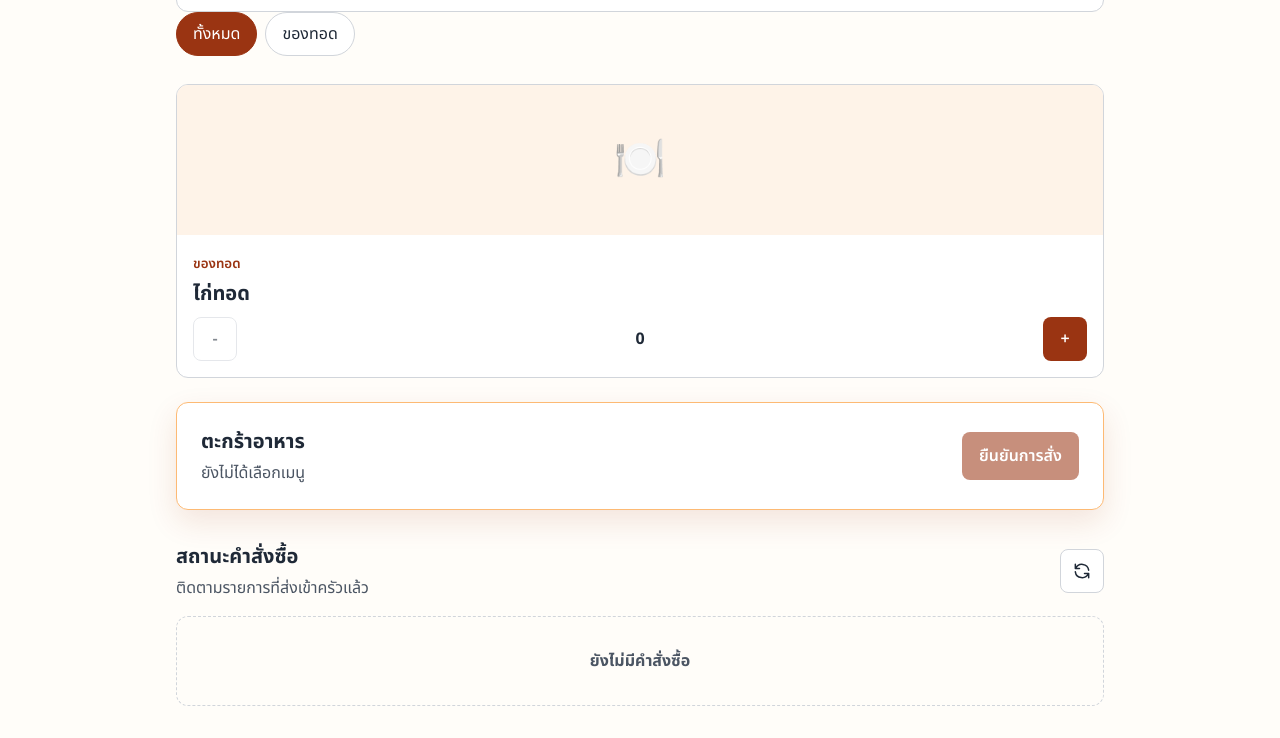
Test case: preserves an order submission error when an unrelated refresh completes later
(page scrolled)
Click the button named "อัปเดตสถานะคำสั่งซื้อ".
click(1082, 571)  # box x1=1060 y1=549 x2=1104 y2=593
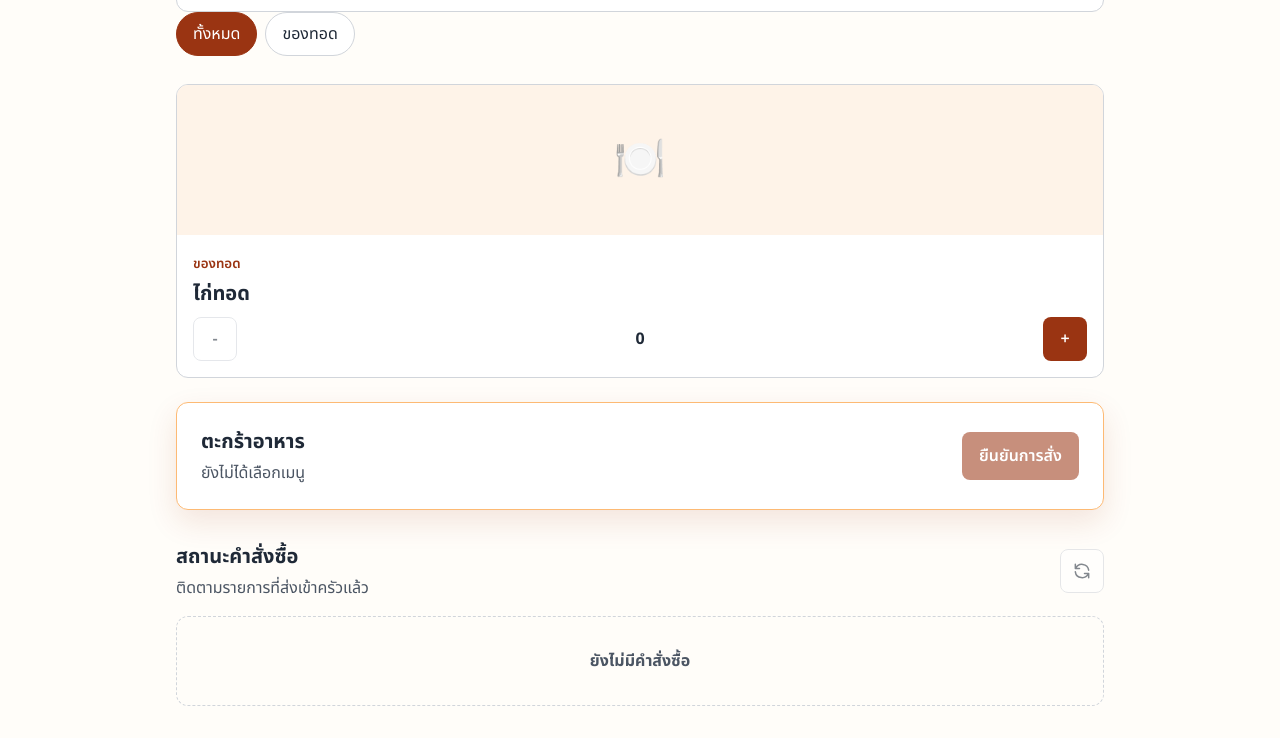
Click the button named "เพิ่ม ไก่ทอด".
click(1065, 339)  # box x1=1043 y1=317 x2=1087 y2=361
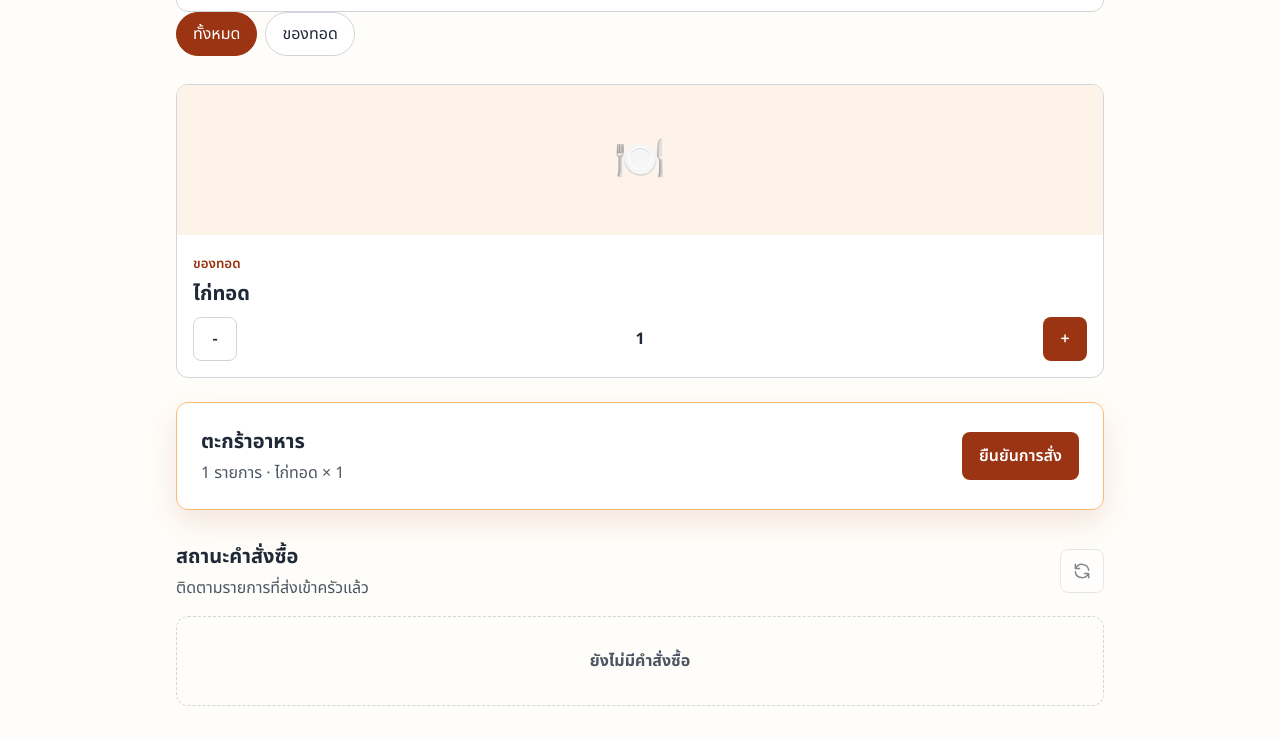
Click the button "ยืนยันการสั่ง".
click(1020, 456)  # box x1=962 y1=432 x2=1079 y2=480
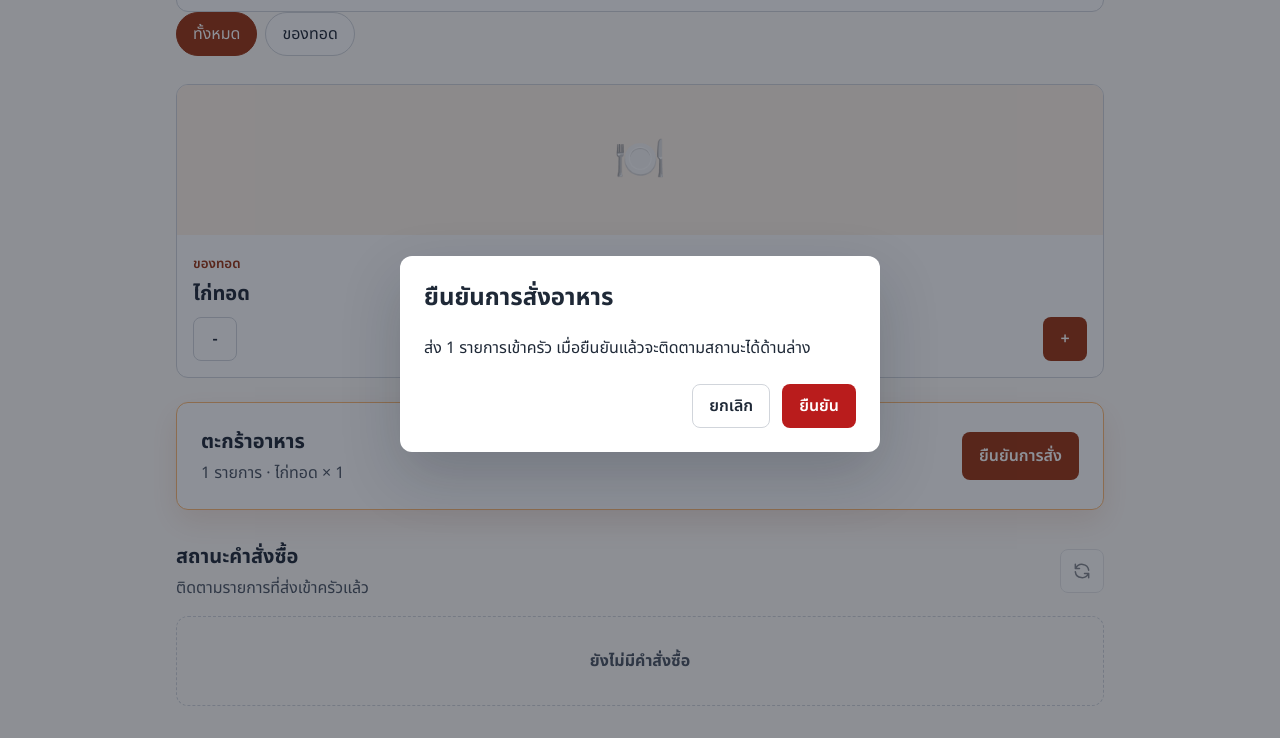
Click the button "ยืนยัน".
click(819, 406)  # box x1=782 y1=384 x2=856 y2=428
(page scrolled)
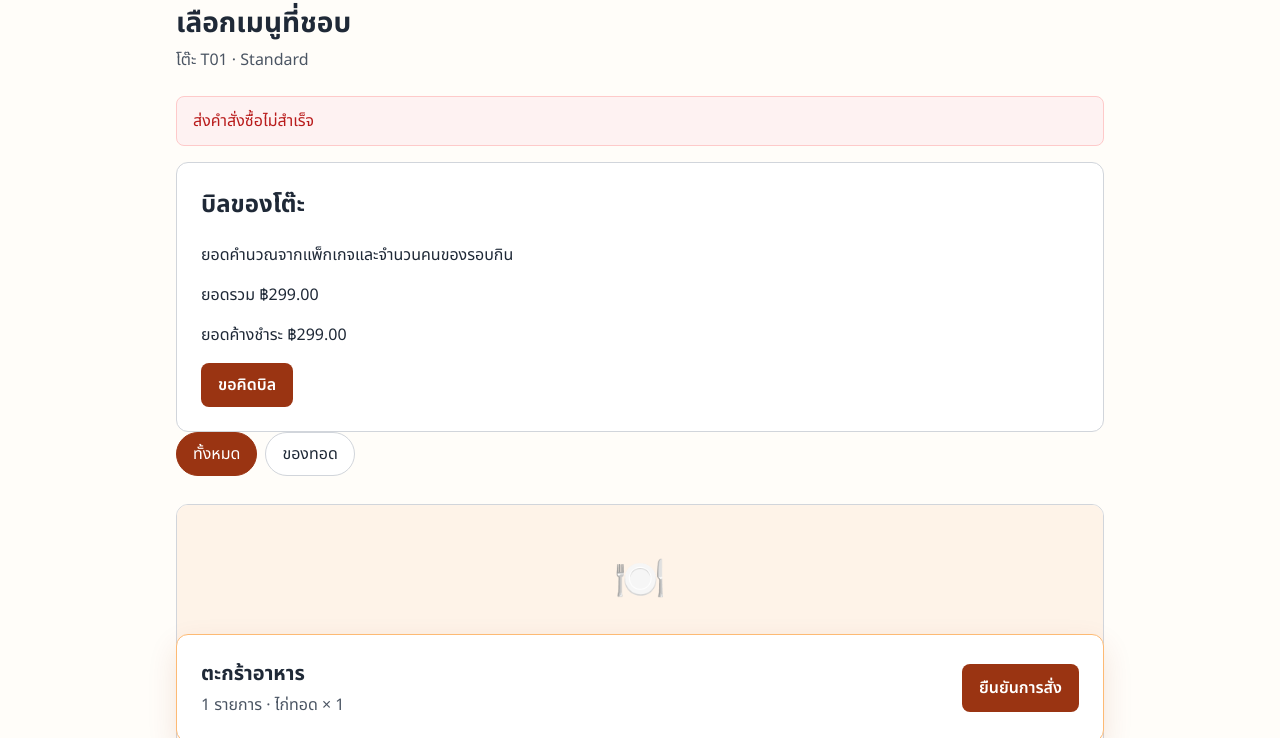
Expected: the text "1 รายการ · ไก่ทอด × 1" is shown, x1=201 y1=693 x2=344 y2=717
Expected: the message "ส่งคำสั่งซื้อไม่สำเร็จ" is shown, x1=176 y1=96 x2=1104 y2=146
